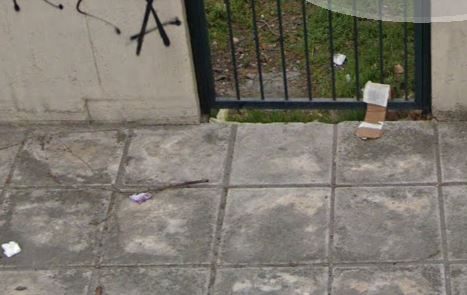trash: (349, 77, 395, 149), (118, 179, 160, 207), (1, 239, 25, 261), (332, 48, 348, 69)
